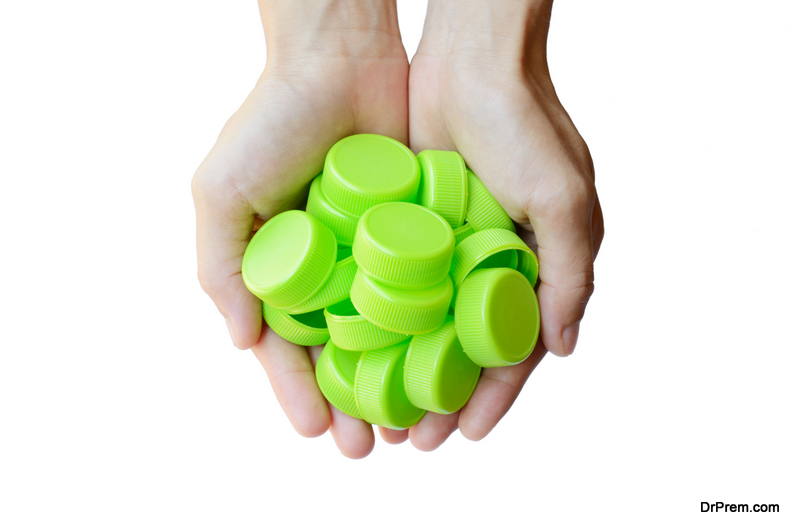PlasticCap: (459, 274, 537, 359), (318, 136, 416, 196), (248, 219, 329, 291), (357, 209, 447, 267), (413, 325, 464, 410), (421, 148, 466, 225)
